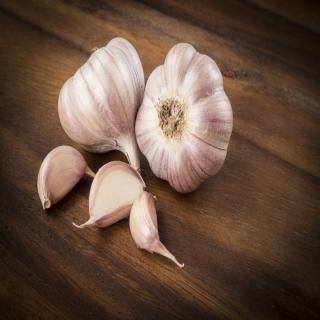Bawang Putih: (134, 40, 237, 197), (57, 35, 150, 174), (71, 160, 150, 233), (36, 146, 101, 213), (128, 191, 167, 259)
